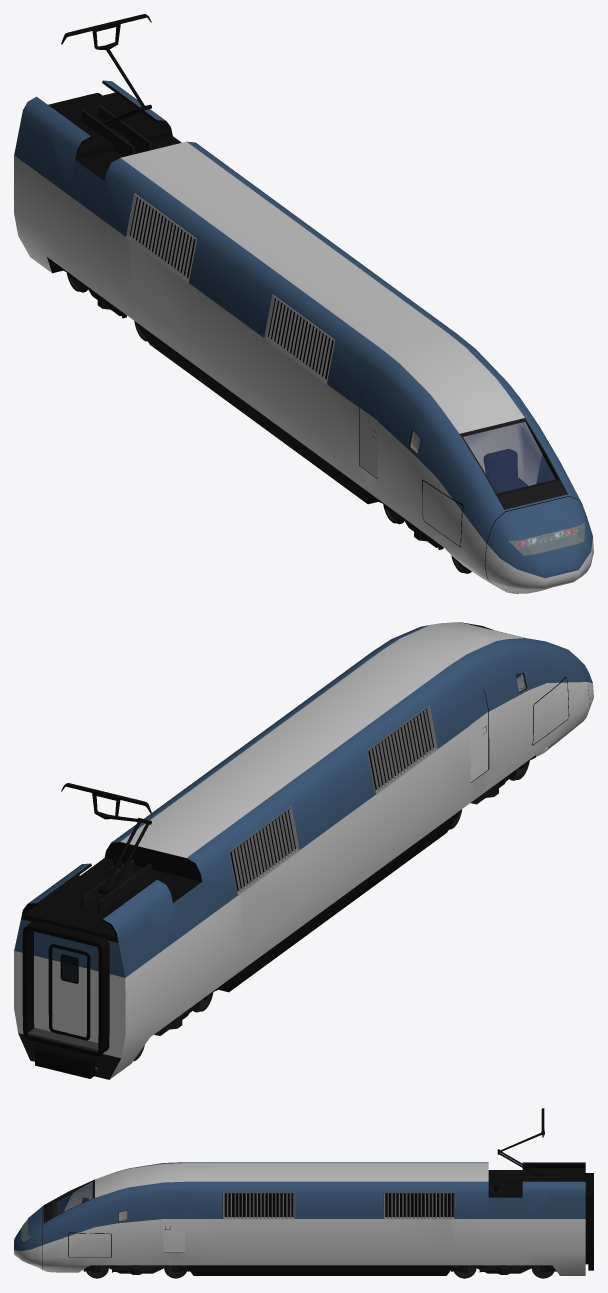
The model's file is locomotive.obj.
The picture shows the model from 3 angles, top to bottom: view 1: azimuth 30°, elevation 25°; view 2: azimuth 150°, elevation 25°; view 3: azimuth 270°, elevation 25°; orthographic projection. The views are drawn at different scales.
Parts seen in each view (by area): view 1: locomotive, Grid, InteriorLocomotive, hook, wheels, BoxLights; view 2: locomotive, Grid, Inbetween, hook, BackDoor, wheels, Platform; view 3: locomotive, Grid, wheels, hook, Inbetween, InteriorLocomotive.
Boxes of the visible parts, x1=… form: locomotive: x1=14, y1=80, x2=593, y2=593; Grid: x1=126, y1=193, x2=335, y2=383; InteriorLocomotive: x1=410, y1=422, x2=555, y2=493; hook: x1=61, y1=14, x2=151, y2=156; wheels: x1=60, y1=267, x2=471, y2=573; BoxLights: x1=509, y1=522, x2=584, y2=555; locomotive: x1=14, y1=622, x2=593, y2=1079; Grid: x1=228, y1=705, x2=437, y2=895; Inbetween: x1=22, y1=921, x2=109, y2=1056; hook: x1=61, y1=783, x2=151, y2=912; BackDoor: x1=48, y1=944, x2=90, y2=1040; wheels: x1=133, y1=755, x2=535, y2=1061; Platform: x1=28, y1=1028, x2=98, y2=1051; locomotive: x1=14, y1=1162, x2=593, y2=1275; Grid: x1=222, y1=1192, x2=455, y2=1219; wheels: x1=83, y1=1265, x2=556, y2=1278; hook: x1=492, y1=1108, x2=560, y2=1193; Inbetween: x1=585, y1=1173, x2=593, y2=1258; InteriorLocomotive: x1=57, y1=1182, x2=127, y2=1221.
Size of the model in its own units: 292 by 647 by 2247.
